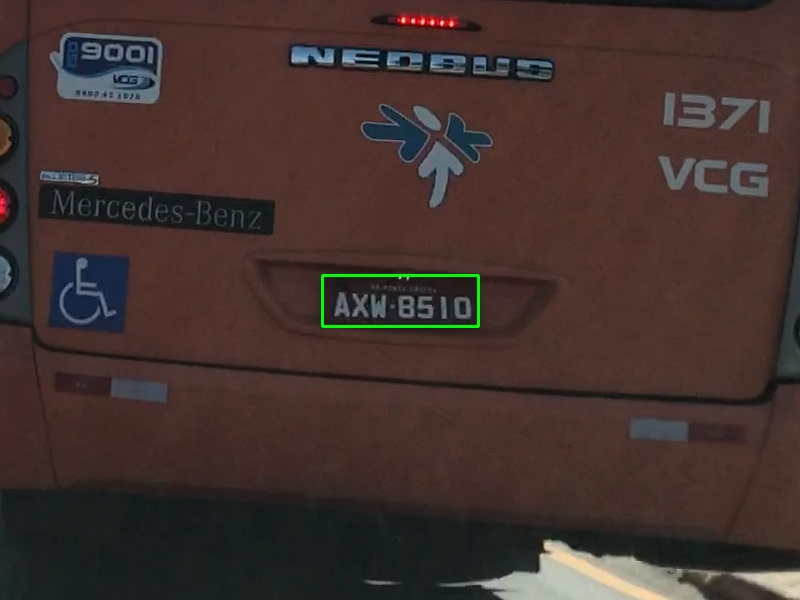placa: (322, 275, 478, 326)
